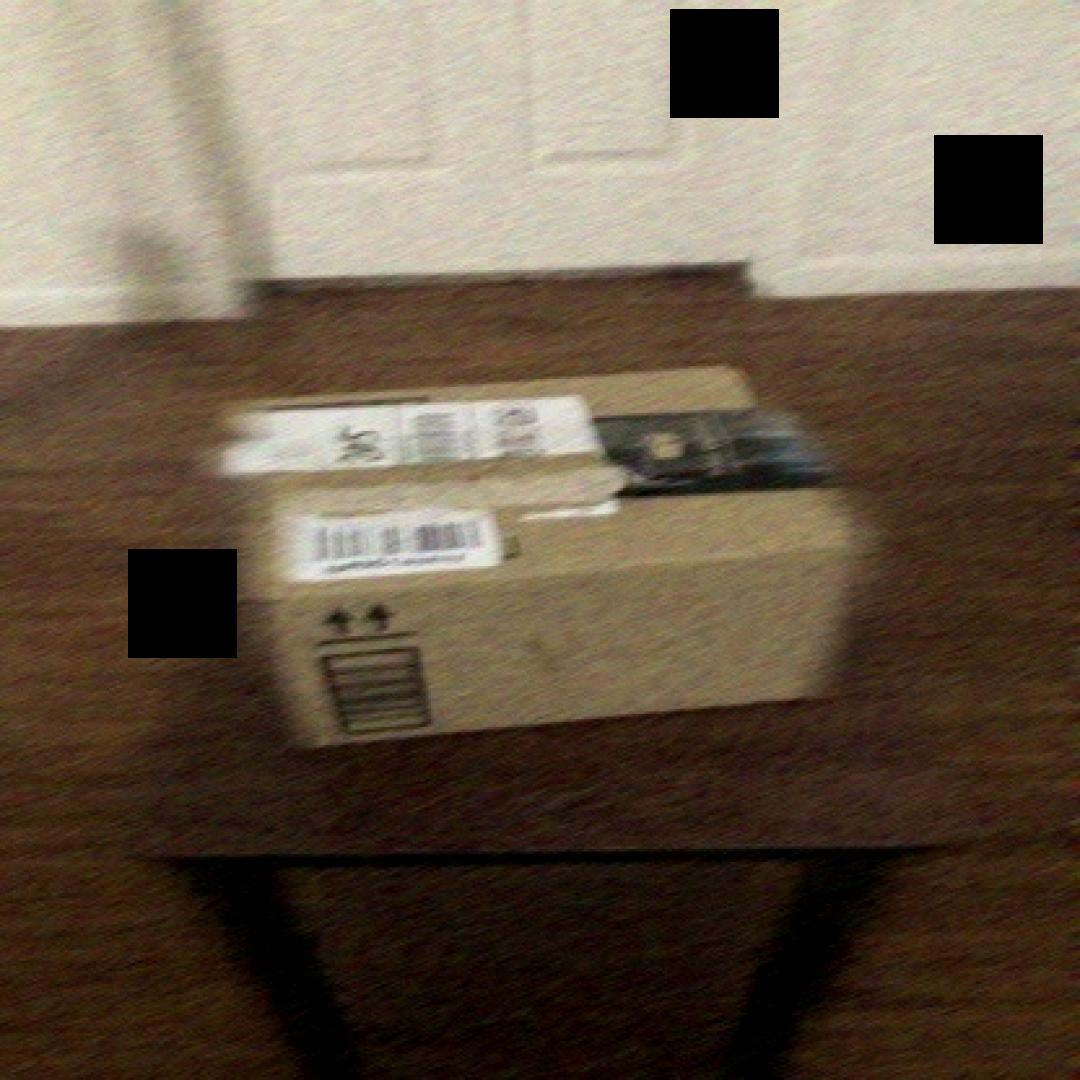package: (228, 364, 878, 752)
